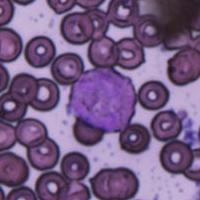E: (67, 67, 136, 133)
